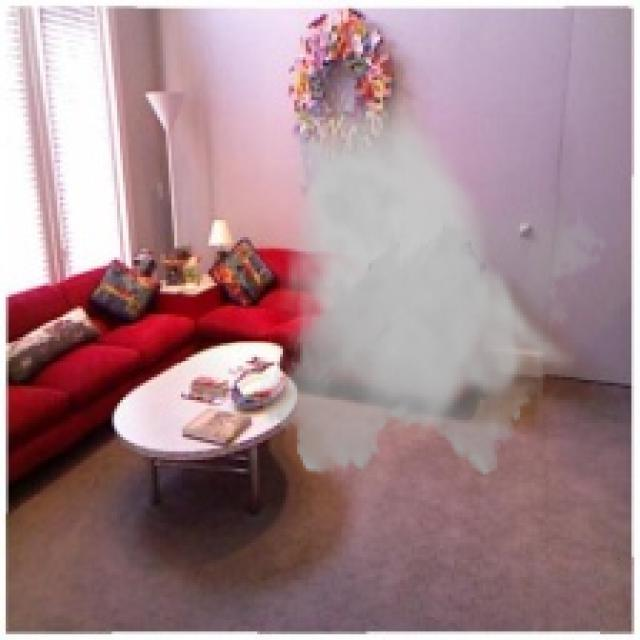Smoke: (252, 74, 608, 486)
